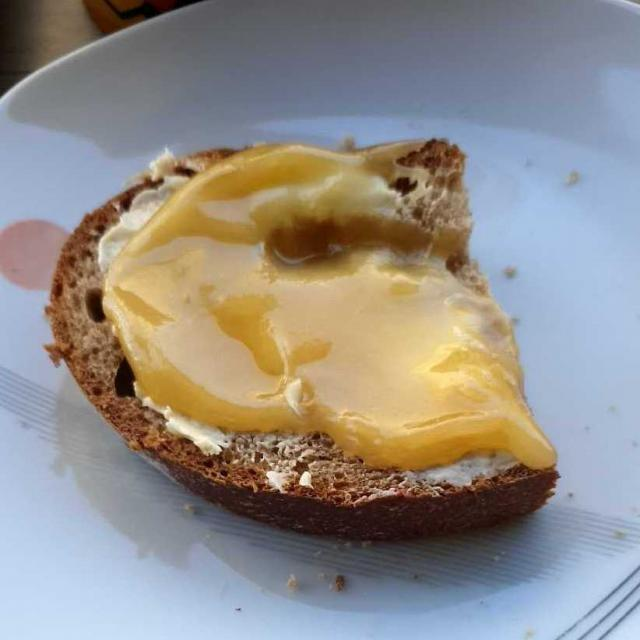bread: (48, 149, 553, 534)
butter: (86, 169, 500, 488)
honey: (106, 149, 572, 474)
